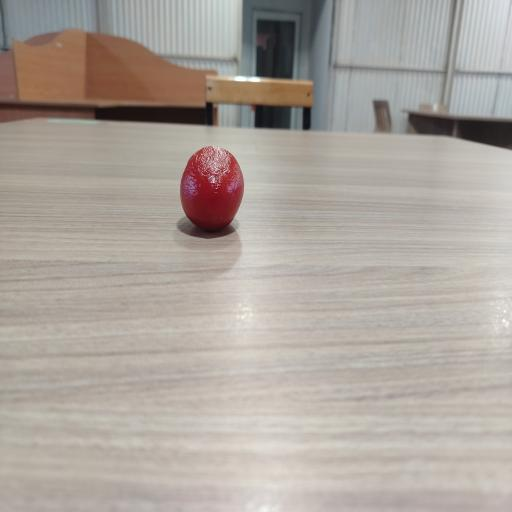spoiled: (180, 146, 244, 230)
